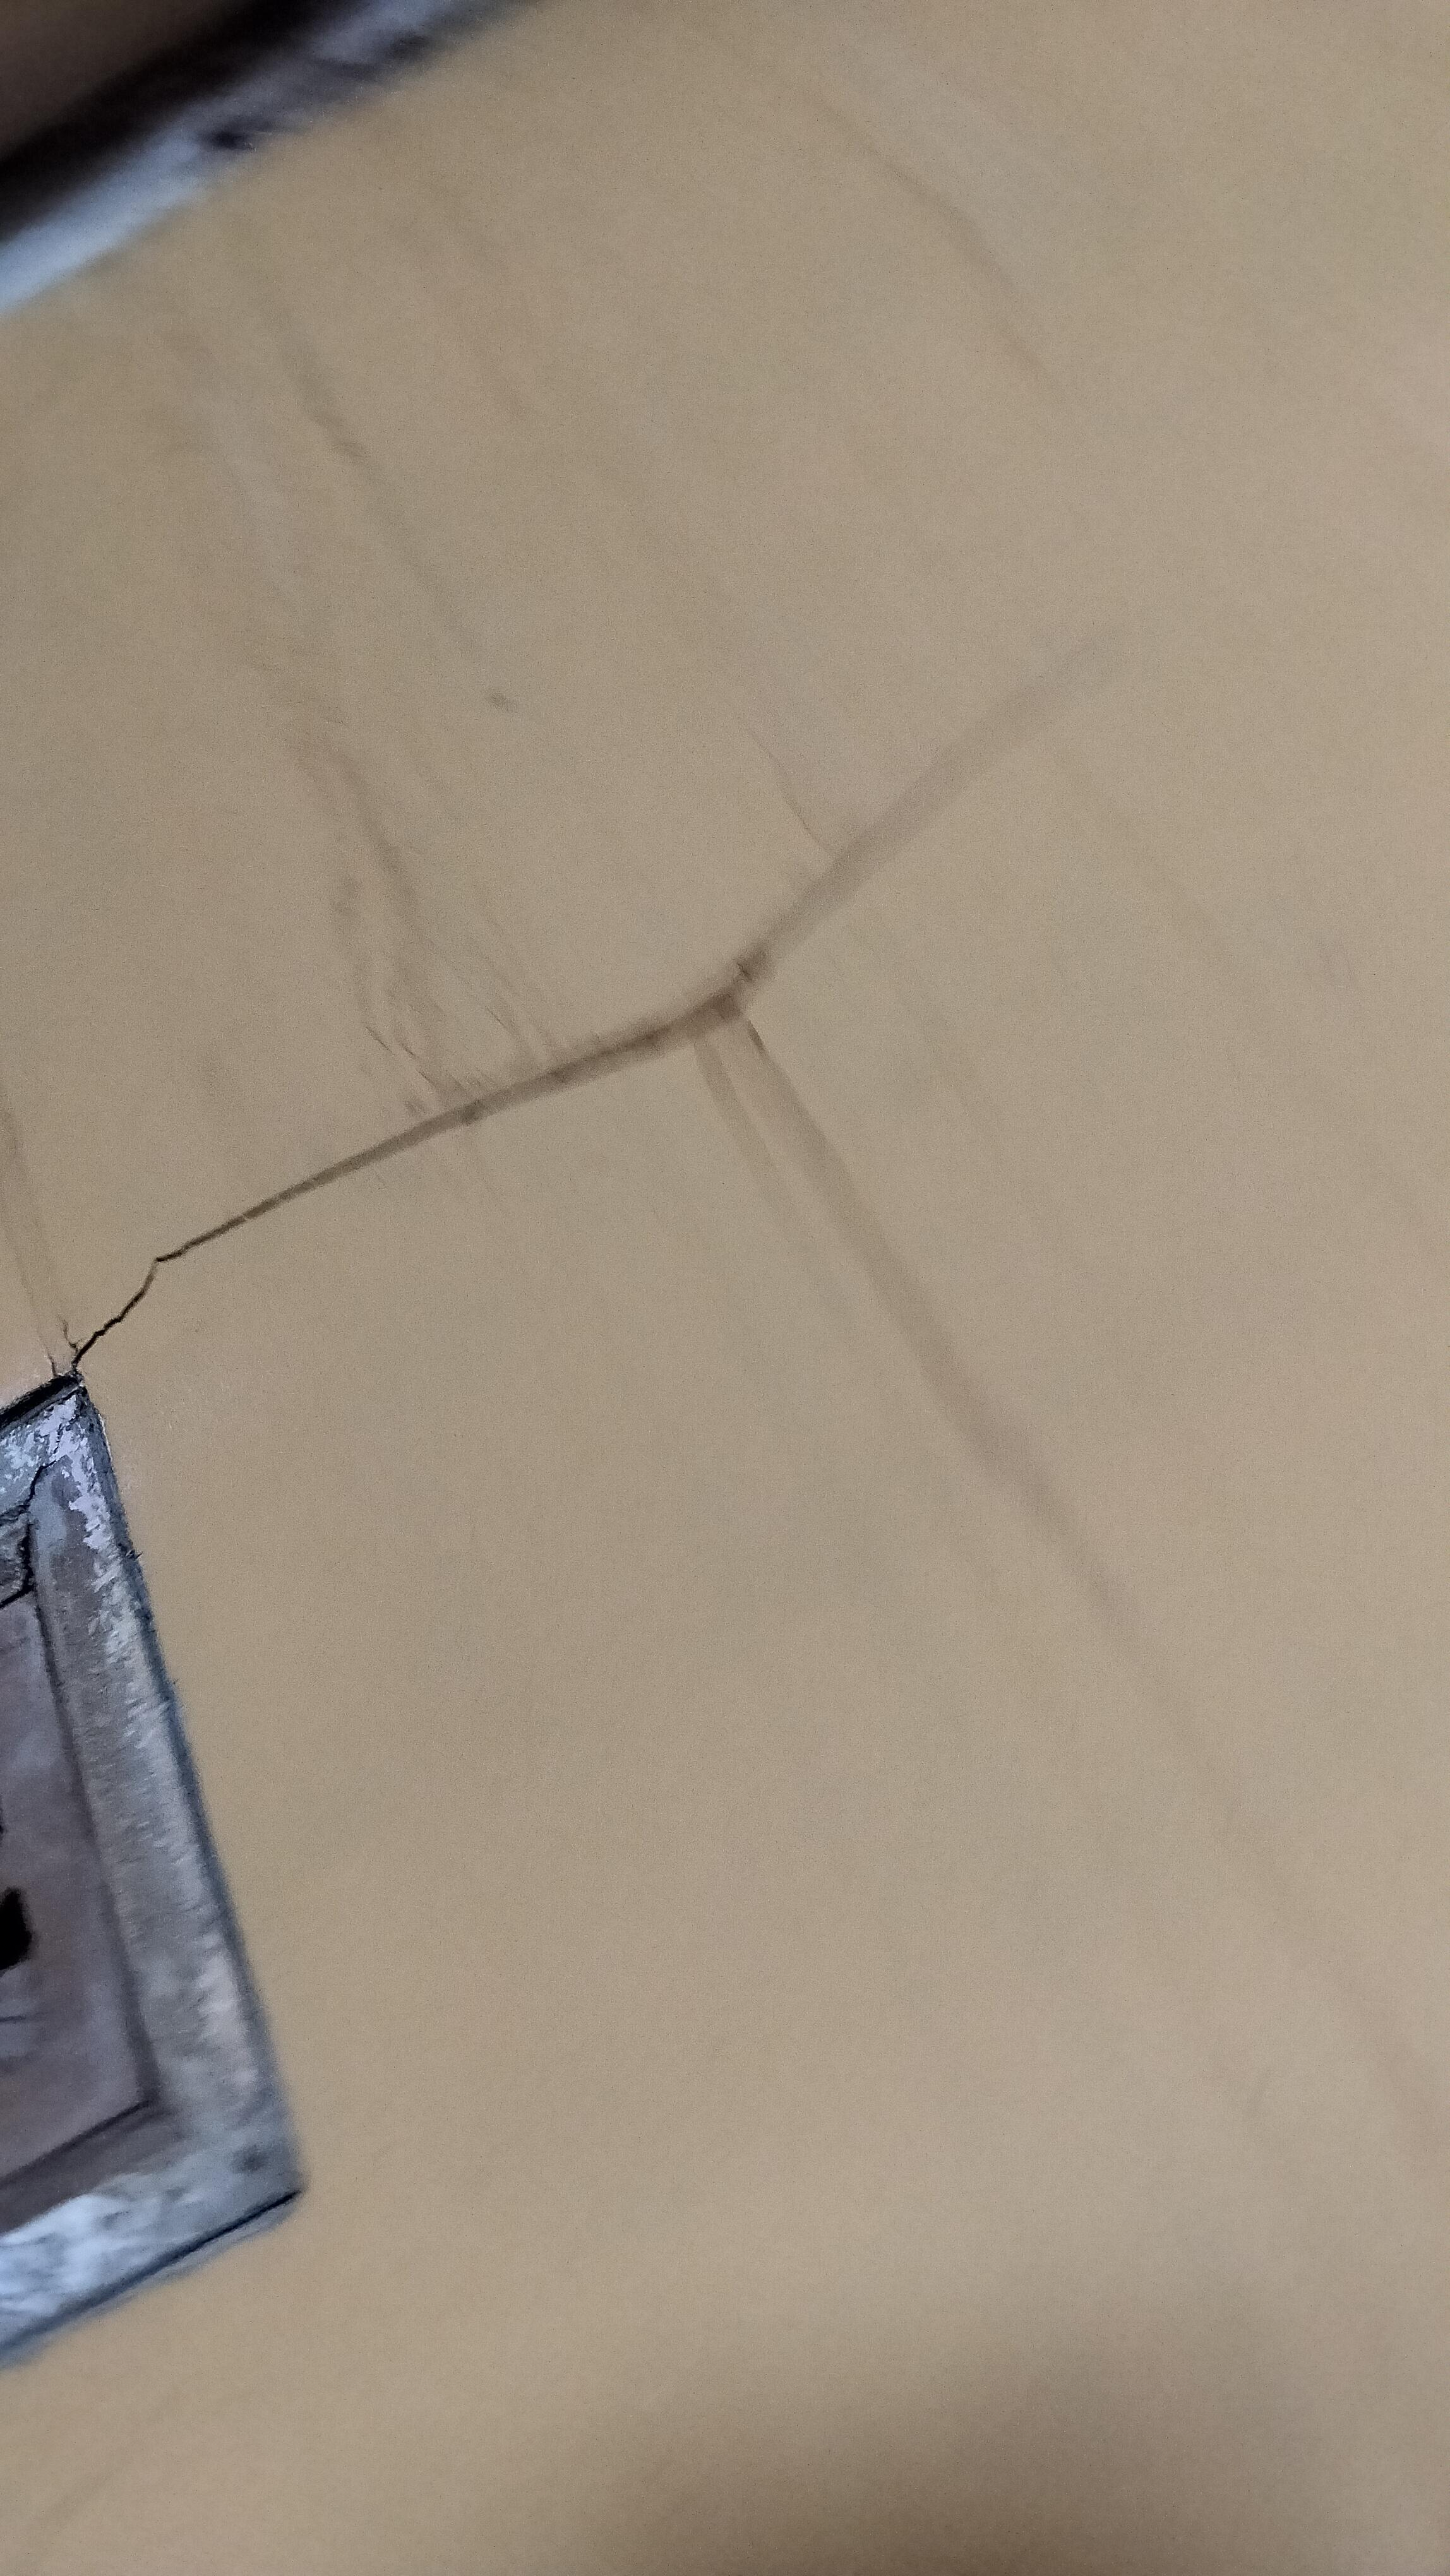Crack: (48, 980, 779, 1373)
